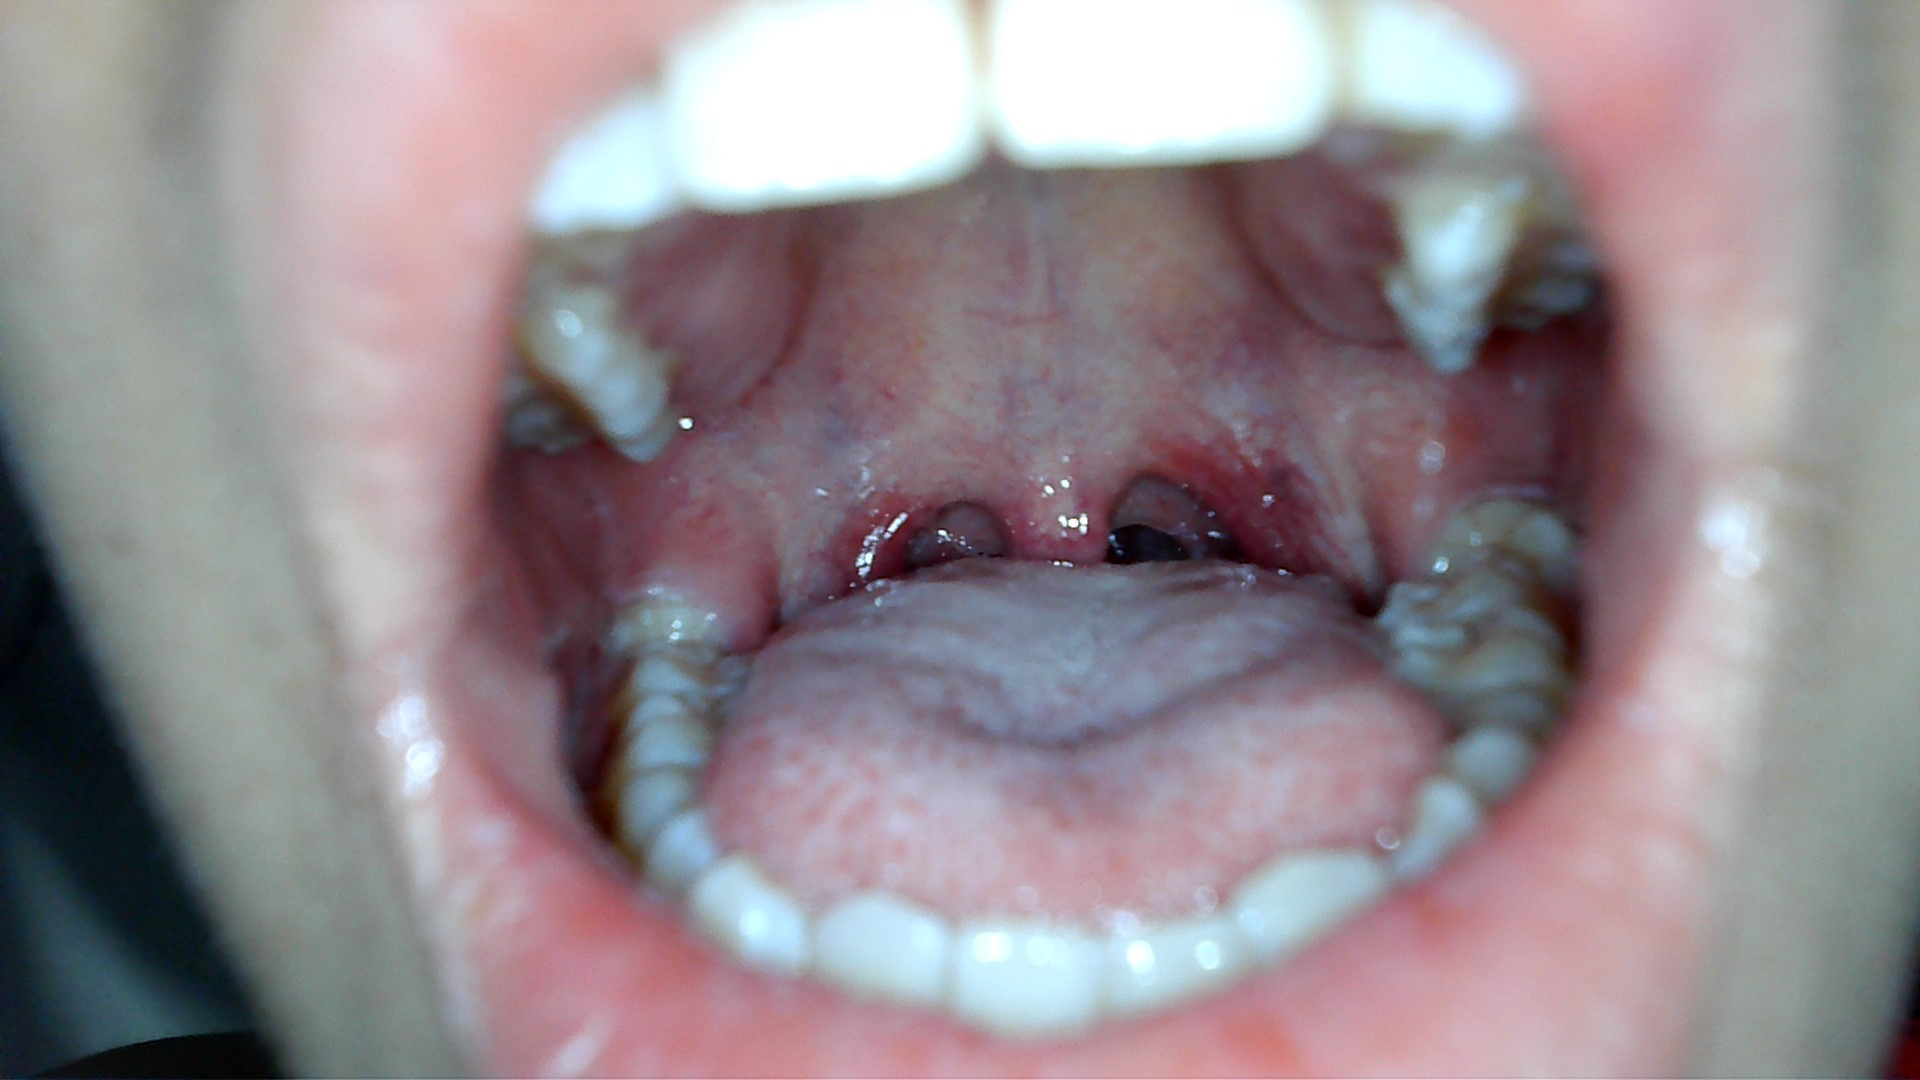throat: (802, 440, 942, 600), (1166, 429, 1302, 560)
